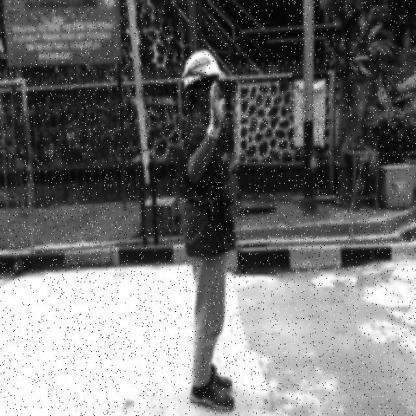boots: (191, 384, 237, 414), (207, 364, 233, 395)
gloves: (208, 78, 224, 144)
helmet: (180, 49, 226, 87)
vest: (174, 136, 245, 224)
